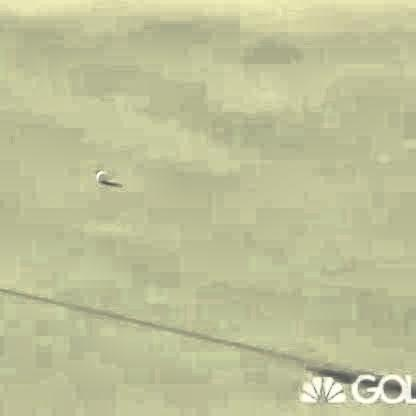golfball: (93, 163, 104, 179)
